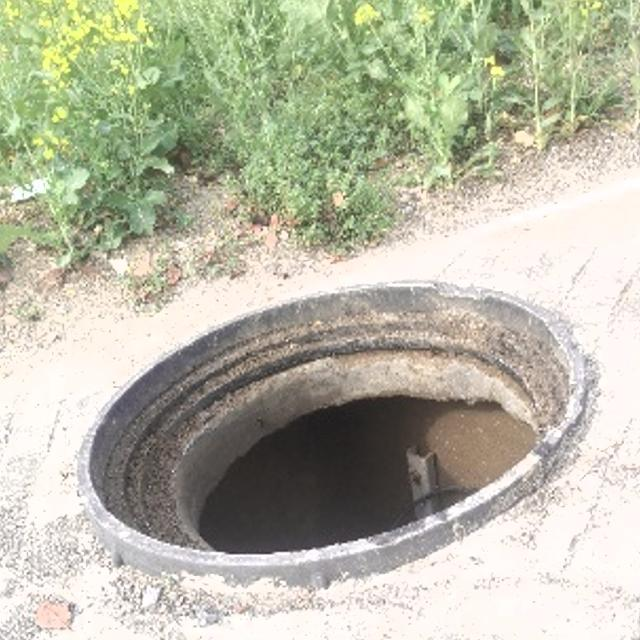lose: (34, 239, 640, 587)
